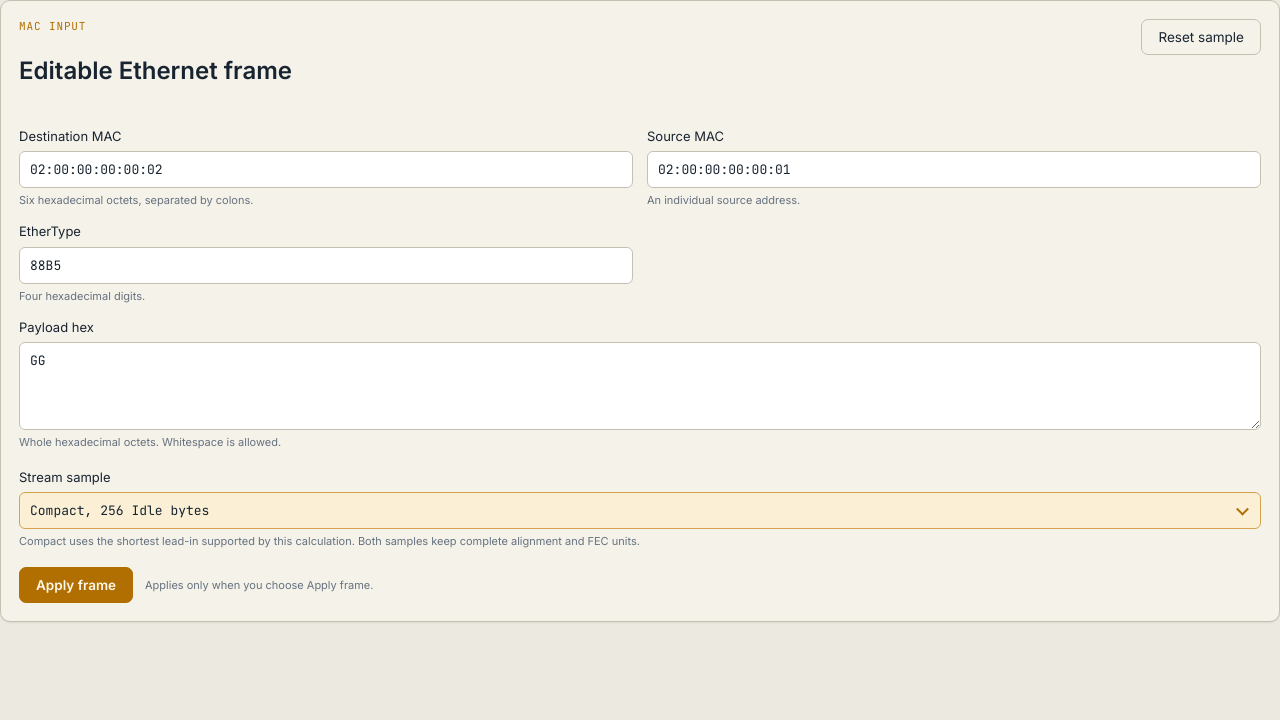
Test: frame editor › blocks invalid payload hex before applying the frame
Click the button "Apply frame". click: (76, 585)
box: [19,567,133,604]
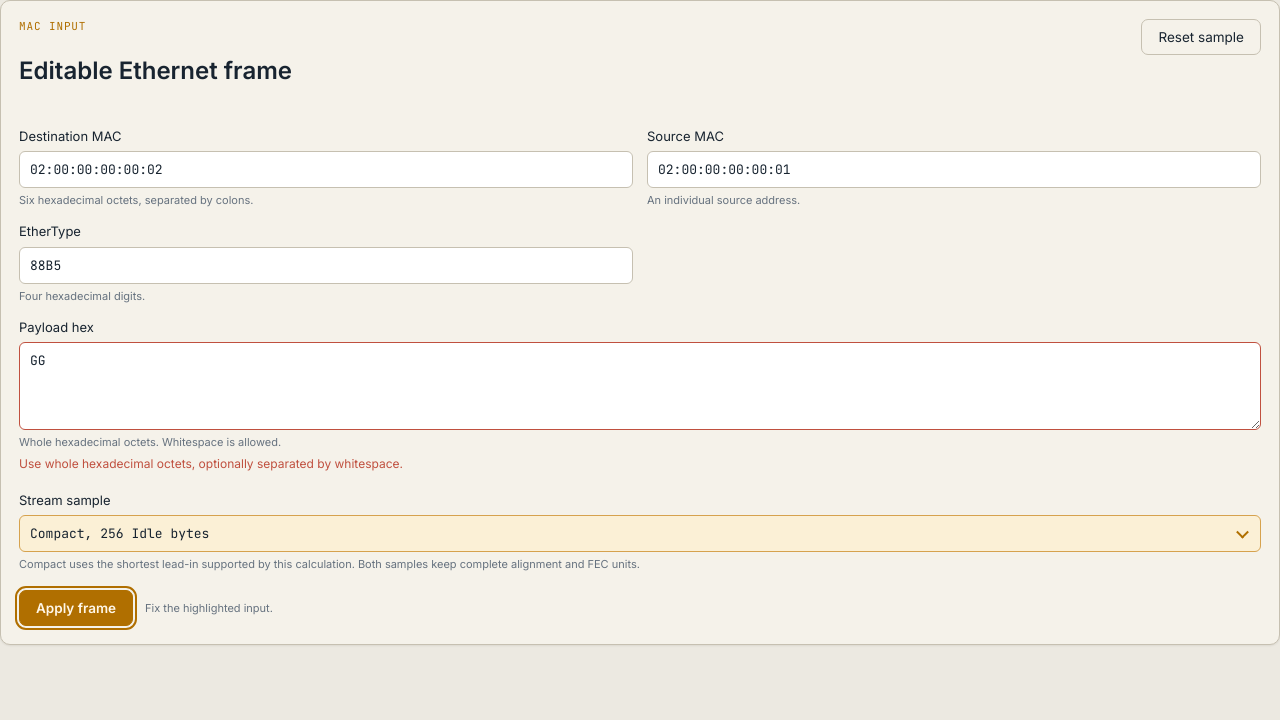
Expected: the message shows "hex", [19,456,403,471]
